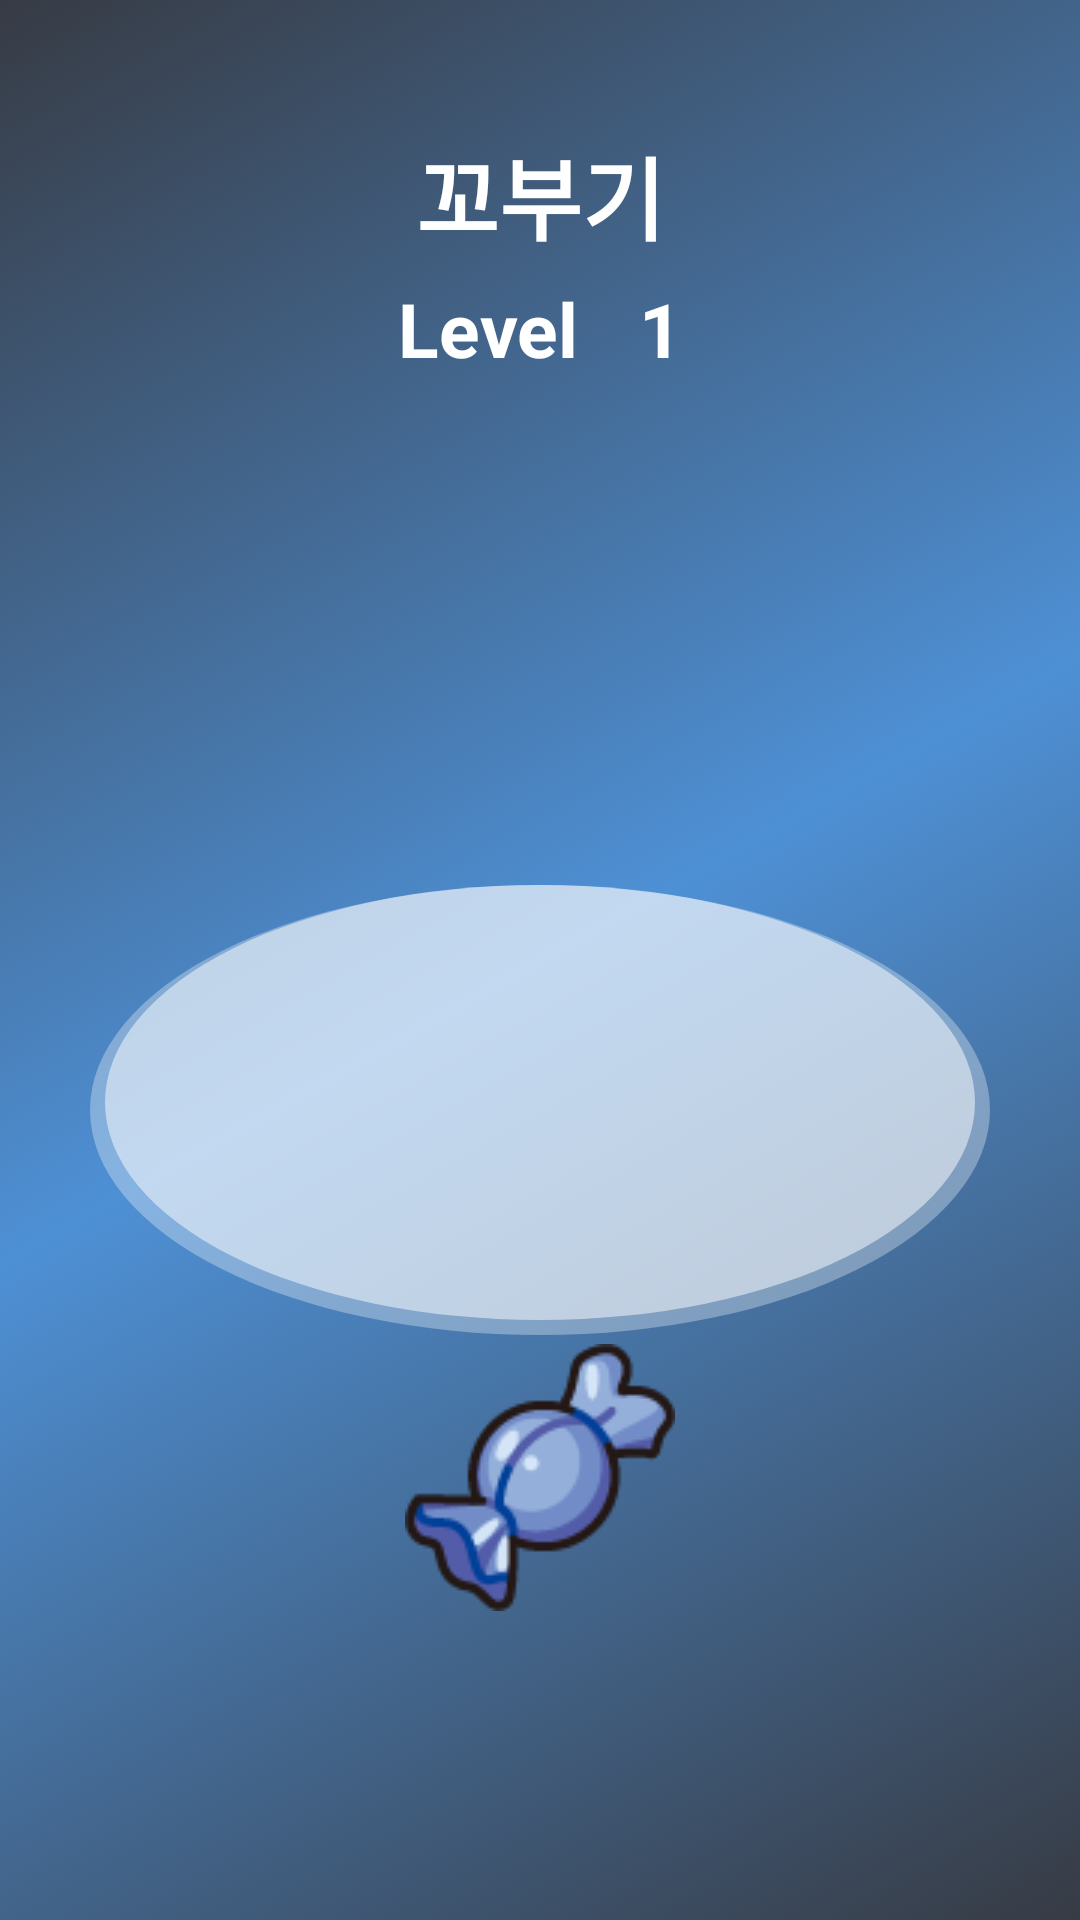

Locate icon controls on the screen. Image size 1080x1920, boxes as (left=x1, top=y1, right=x2, bottom=y2).
rare candy: (left=405, top=1344, right=675, bottom=1611)
